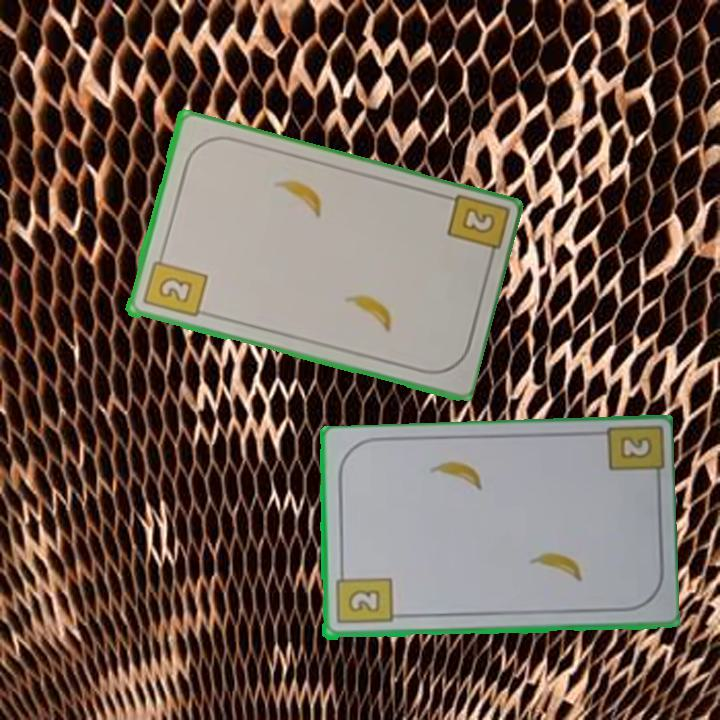2b: (442, 191, 508, 268), (139, 249, 209, 321), (332, 566, 394, 627), (616, 433, 655, 462)
